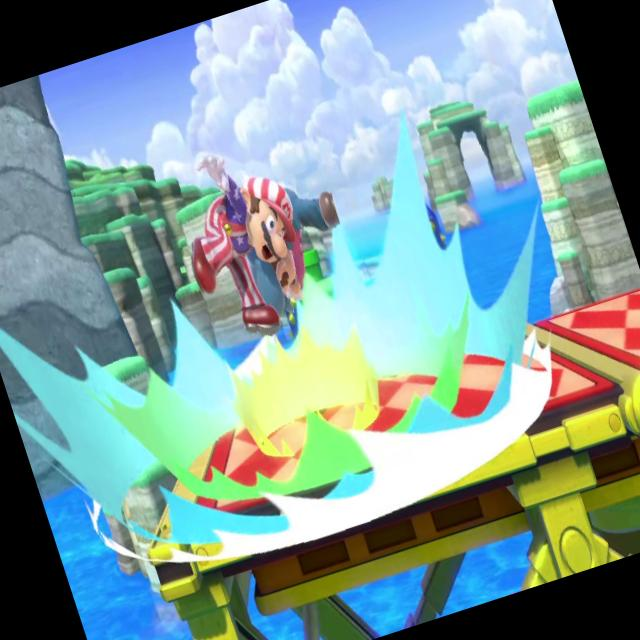Mario: (152, 130, 330, 361)
Mario-Grab: (214, 149, 374, 345)
